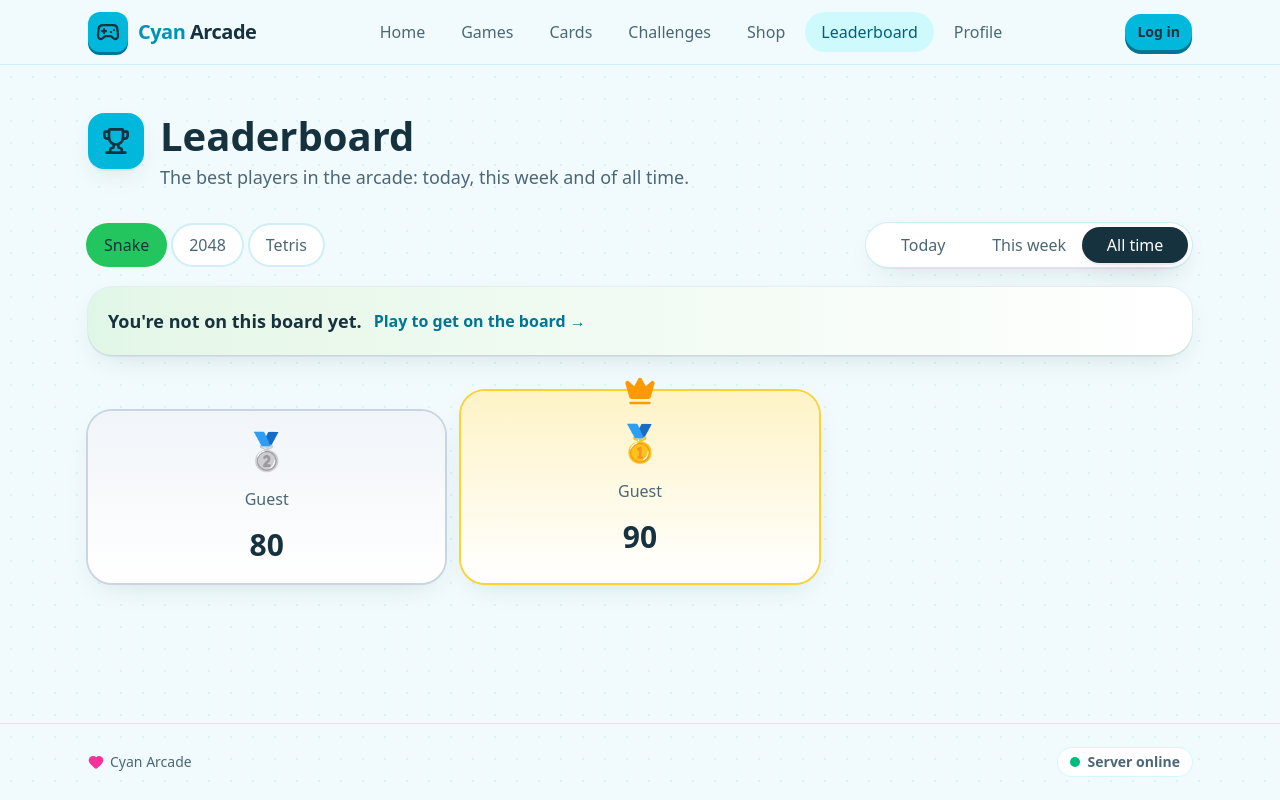
Test: leaderboard page › switches between today, this week and all time
This screenshot has width=1280, height=800.
Expected: the list named "Top 2 in Snake" is shown, x1=88 y1=391 x2=819 y2=583
Click the button "This week": (1029, 245) x1=976 y1=227 x2=1082 y2=263
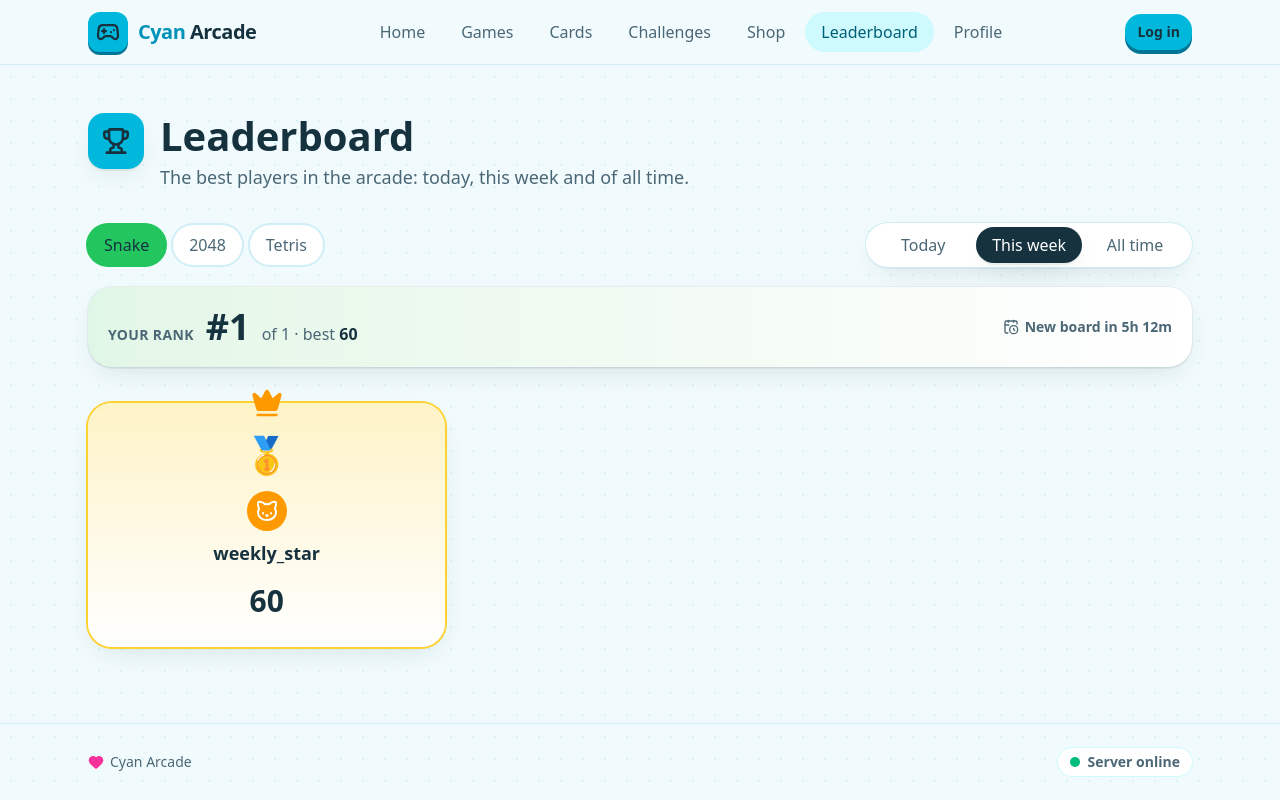
Expected: the text "weekly_star" is shown, x1=213 y1=539 x2=320 y2=567
Expected: the text "#1" is shown, x1=206 y1=307 x2=250 y2=347
Expected: the text "New board in 5h 12m" is shown, x1=1003 y1=317 x2=1172 y2=337
Click the button "Today": (923, 245) x1=870 y1=227 x2=976 y2=263
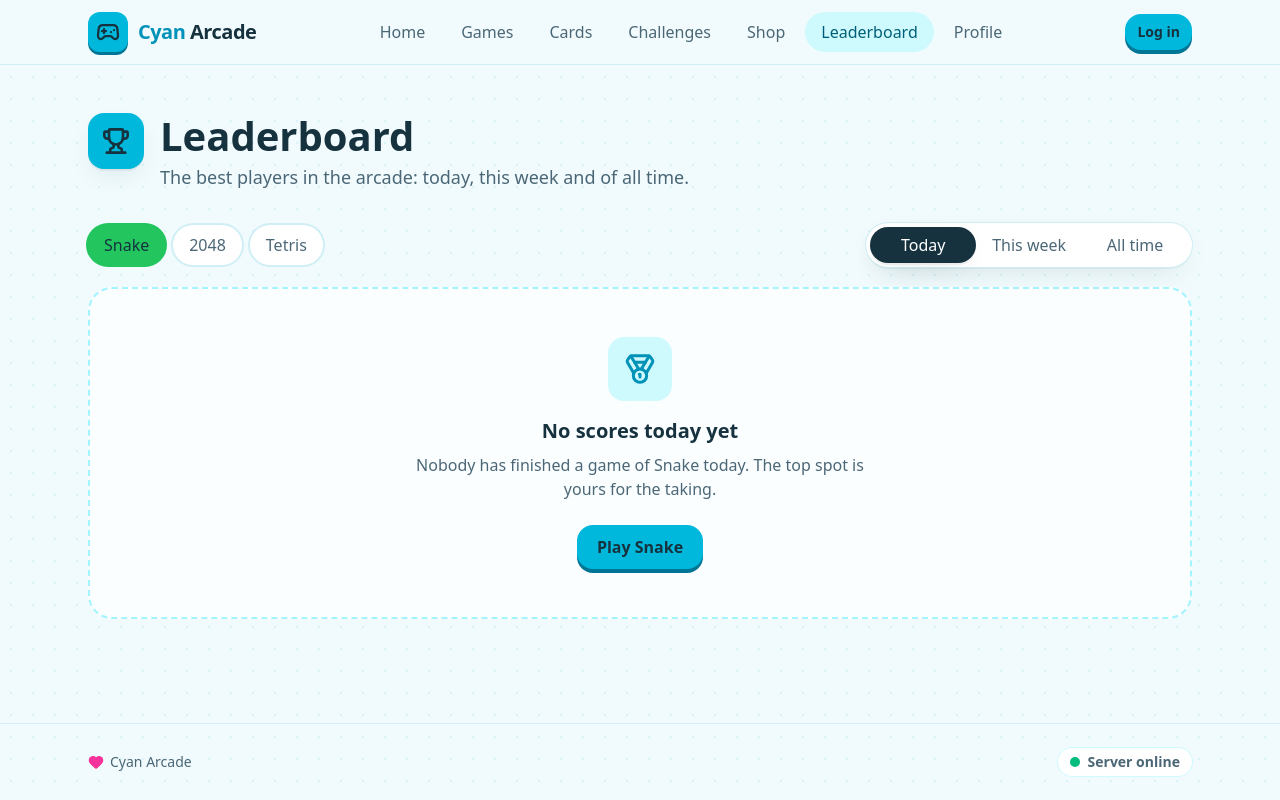
Expected: the heading "No scores today yet" is shown, x1=542 y1=417 x2=738 y2=445
